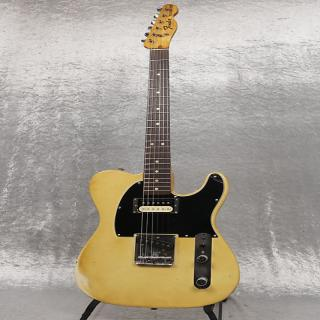Fender Telecaster: (73, 1, 245, 314)
SH: (126, 192, 195, 258)
